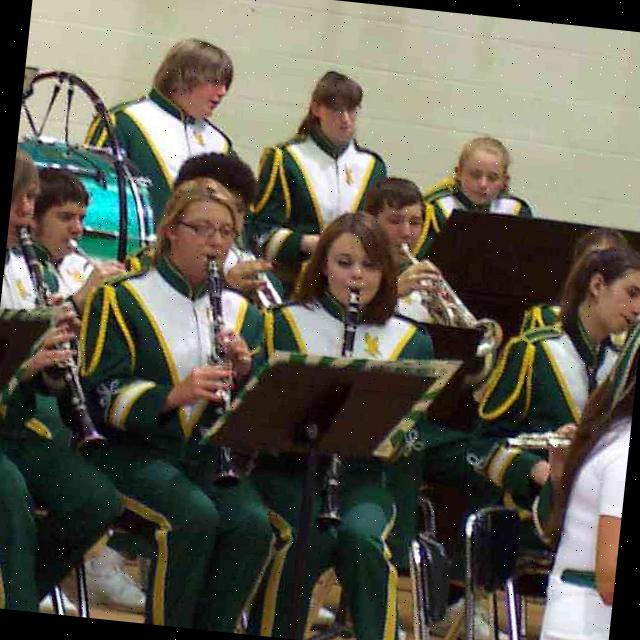clarinet: (0, 227, 129, 459), (176, 254, 265, 494), (312, 286, 364, 532)
